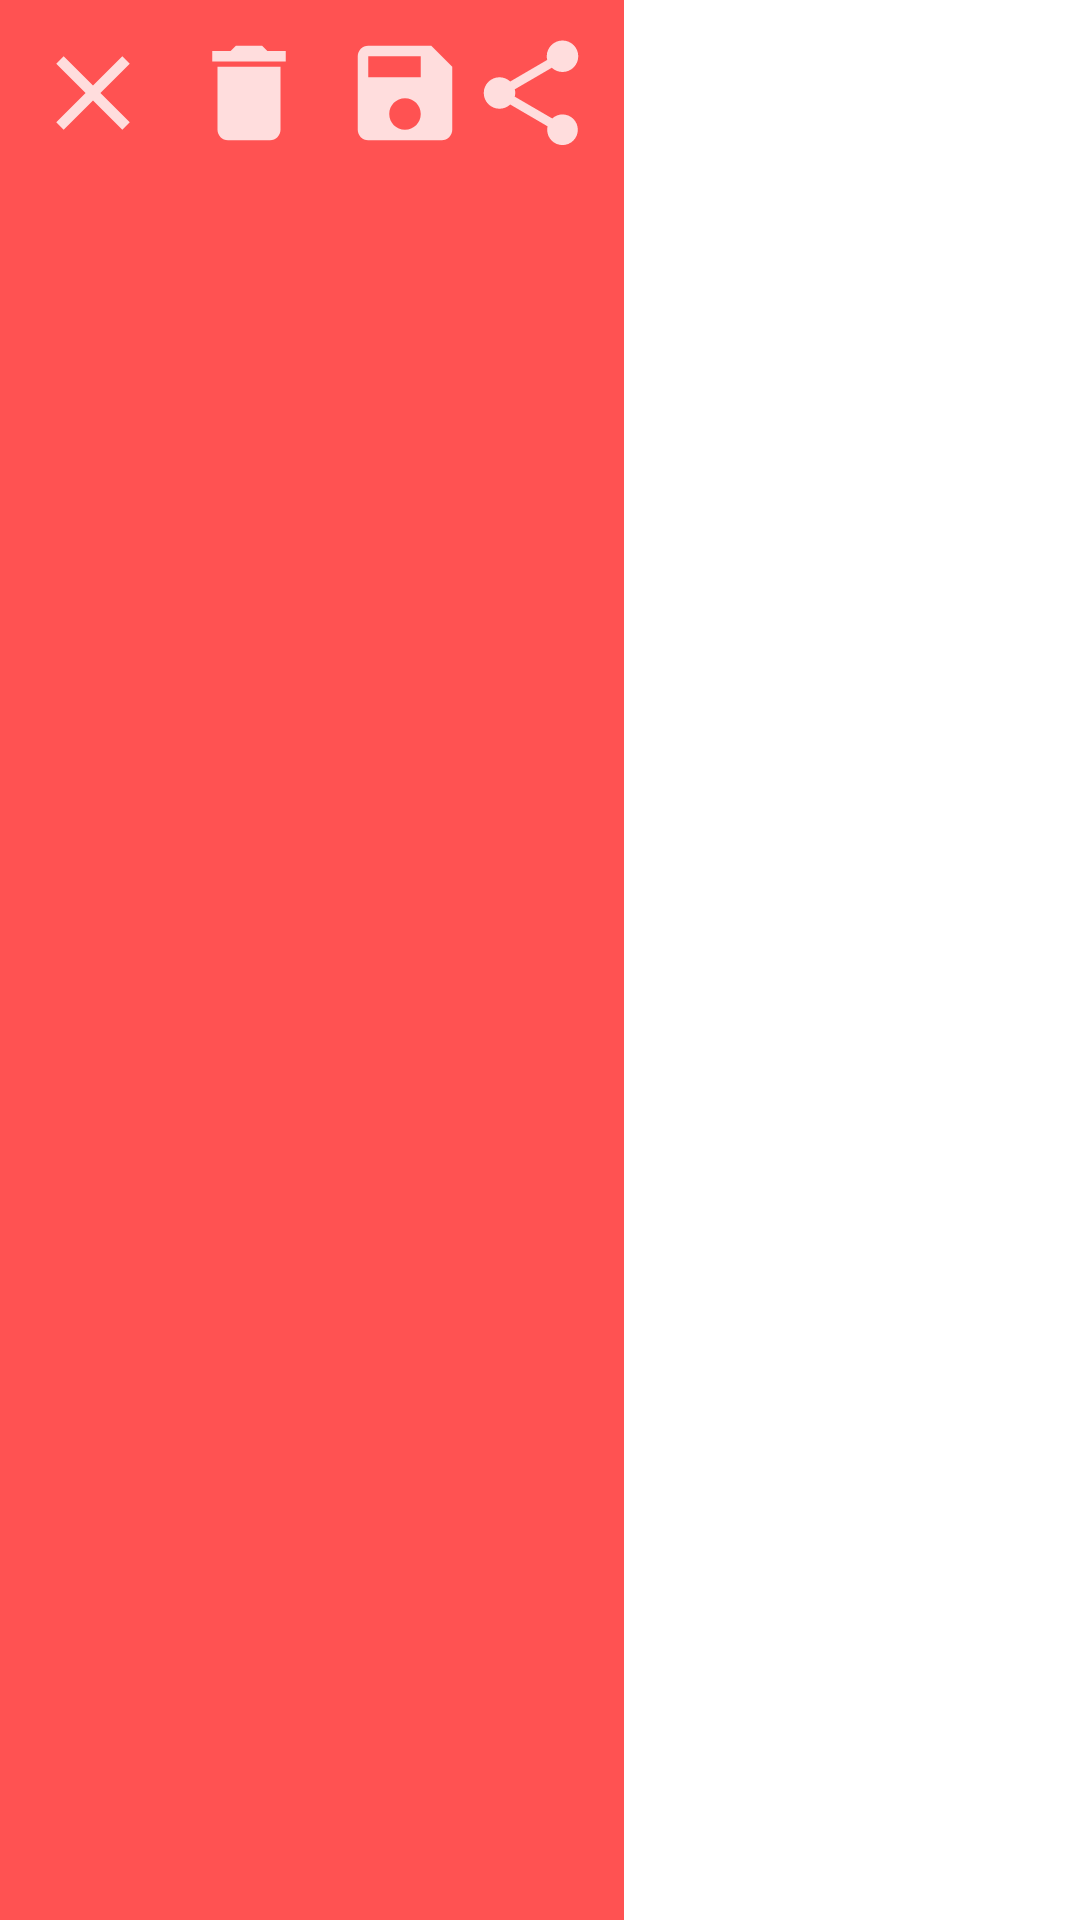

Where to tap for icons on this 1080×1920 app screen, as (x=x, y=y):
Close: (x=93, y=93)
Delete: (x=249, y=93)
Save: (x=405, y=93)
Share: (x=531, y=92)
